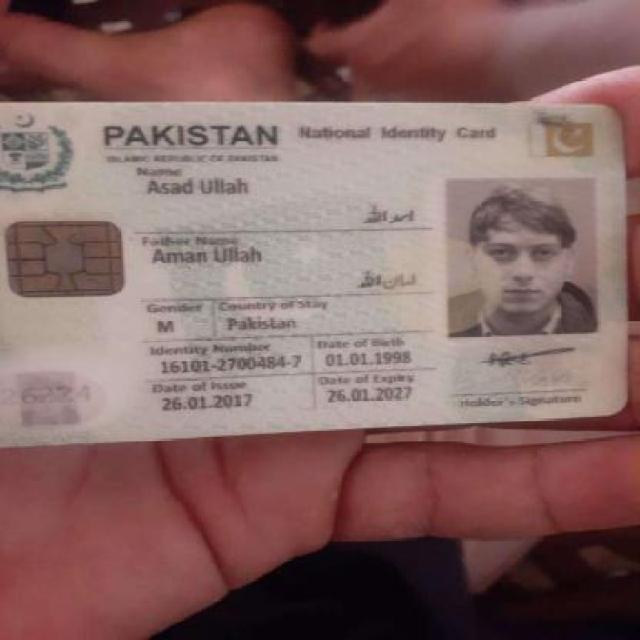Front: (2, 97, 630, 426)
